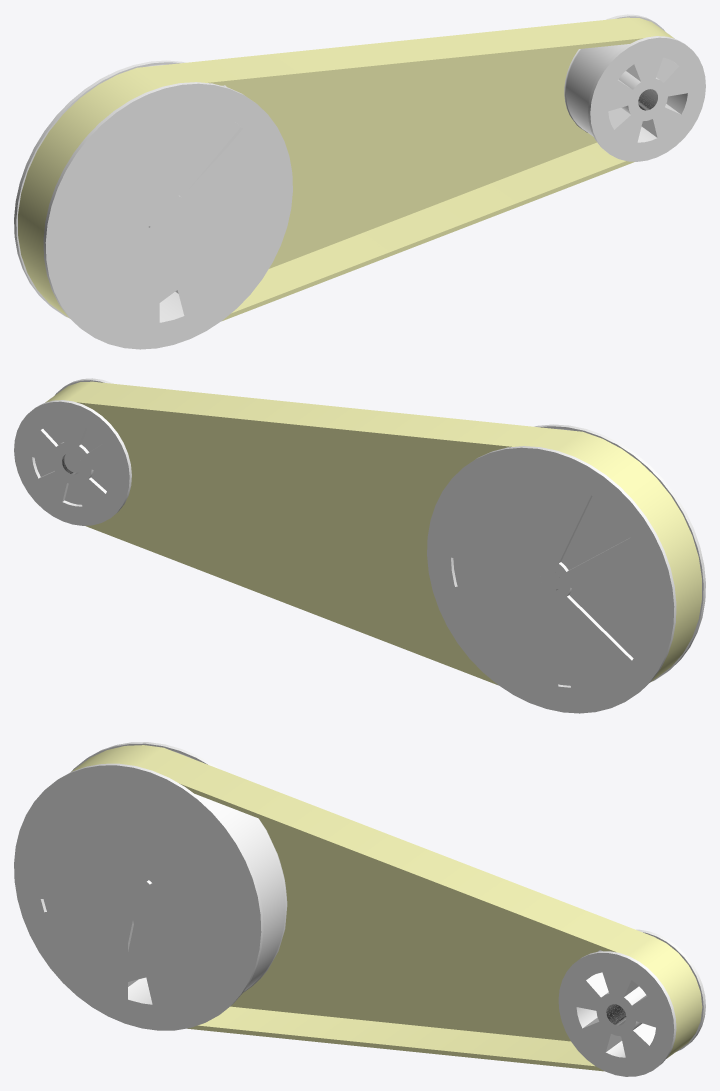
File: flat-belt without rod.fbx
The picture shows the model from 3 angles, top to bottom: view 1: azimuth 30°, elevation 25°; view 2: azimuth 150°, elevation 25°; view 3: azimuth 330°, elevation 25°; orthographic projection.
Visible parts, largest first — view 1: Belt1-2, Part2, Part1; view 2: Belt1-2, Part2, Part1; view 3: Belt1-2, Part2, Part1.
Boxes of the visible parts, left/top/right/bottom form: Belt1-2: left=18, top=17, right=674, bottom=321; Part2: left=14, top=60, right=292, bottom=349; Part1: left=564, top=14, right=705, bottom=161; Belt1-2: left=45, top=381, right=701, bottom=685; Part2: left=427, top=424, right=705, bottom=713; Part1: left=14, top=378, right=131, bottom=525; Belt1-2: left=71, top=745, right=702, bottom=1071; Part2: left=14, top=742, right=287, bottom=1030; Part1: left=558, top=929, right=705, bottom=1076.
Size of the model in its own units: 165 by 61.96 by 13.8.
